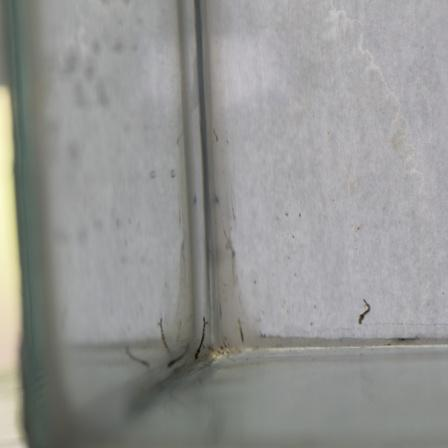Jentik-Nyamuk: (193, 316, 213, 363), (354, 296, 379, 327)
